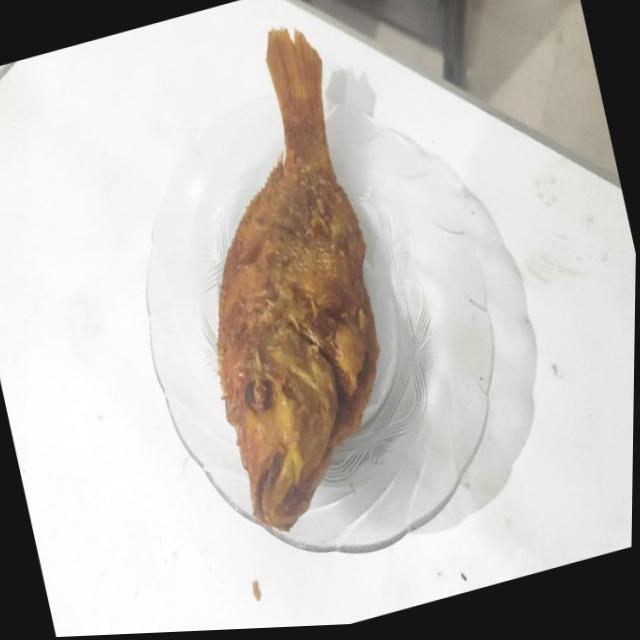ikan_mujair: (217, 29, 379, 530)
